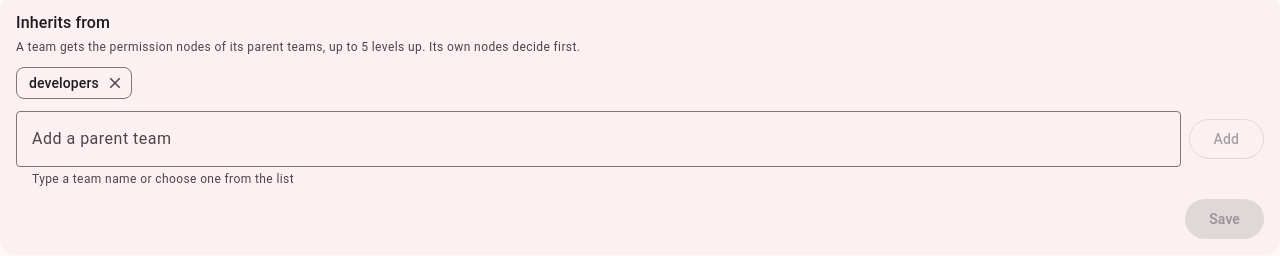
Scenario: TeamParentsCard › removing a parent › removes the chip whose button is pressed
The width and height of the screenshot is (1280, 256).
Click the button named "Remove developers" at (115, 83), box [103, 71, 127, 95]
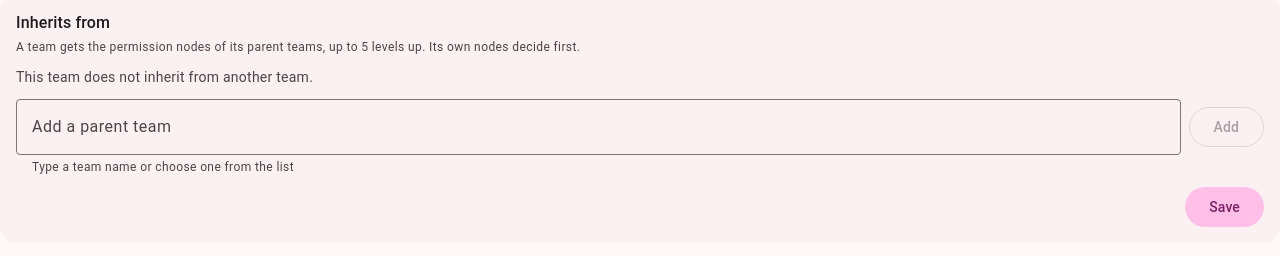
Expected: the text "This team does not inherit from another team." is shown, [16, 69, 313, 85]
